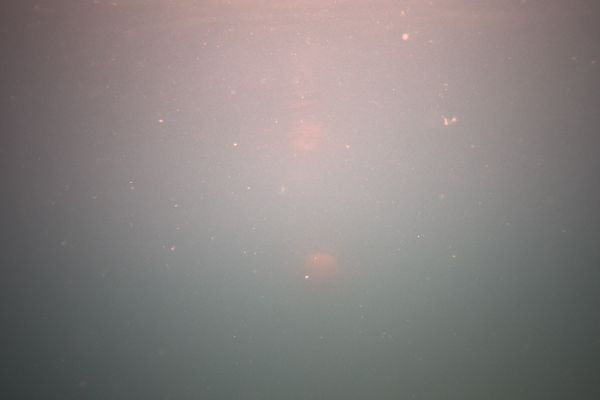buoy: (306, 253, 334, 289)
